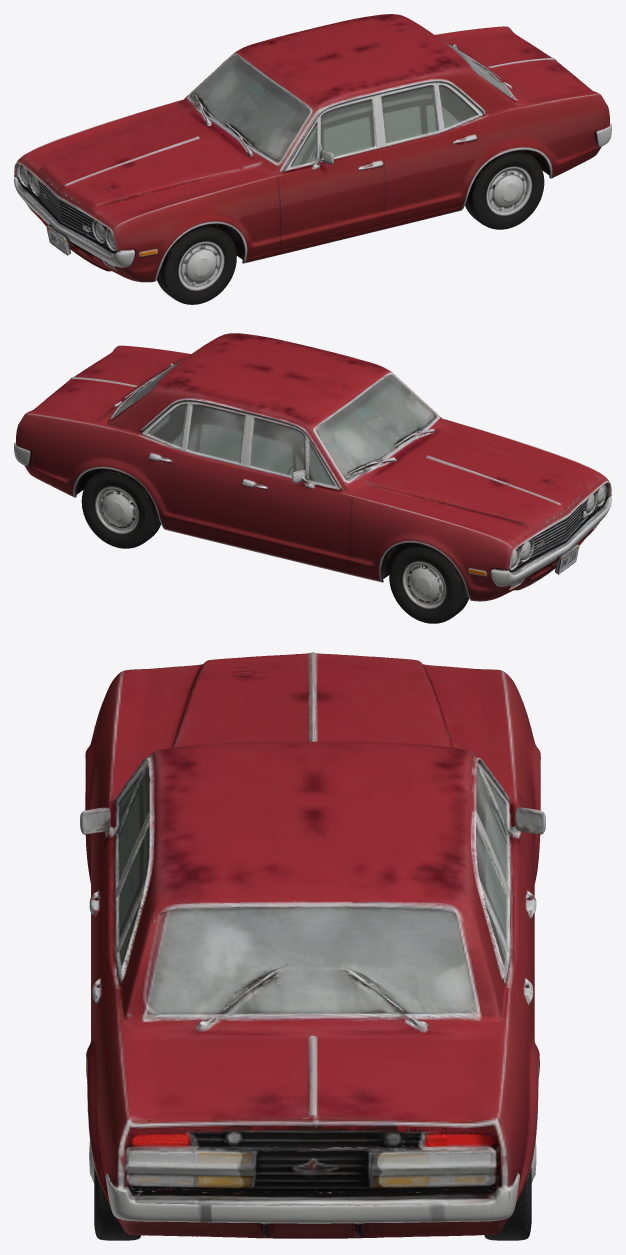
The model's file is Meshy_AI_Vintage_Drive_1102074902_texture.glb.
The picture shows the model from 3 angles, top to bottom: view 1: azimuth 30°, elevation 25°; view 2: azimuth 150°, elevation 25°; view 3: azimuth 270°, elevation 25°; orthographic projection. The views are drawn at different scales.
Size of the model in its own units: 2 by 0.6105 by 0.7882.
1 material, 1 textured.
